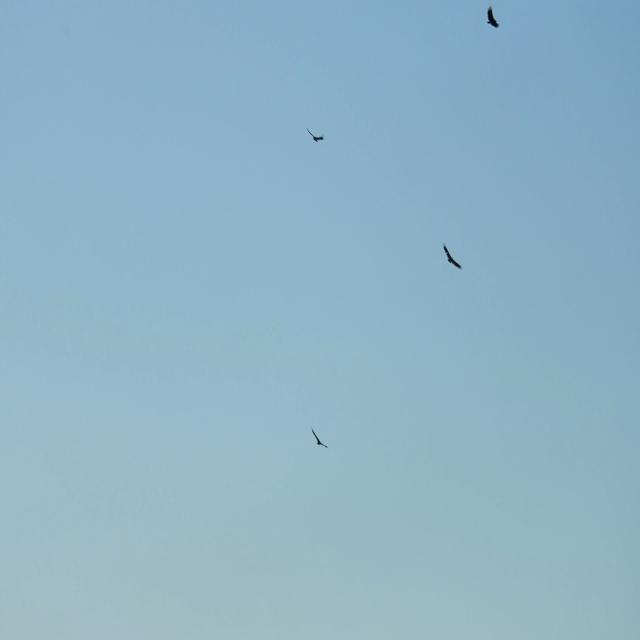bird: (441, 242, 466, 274), (304, 120, 328, 145), (310, 426, 328, 454), (484, 5, 499, 28)
